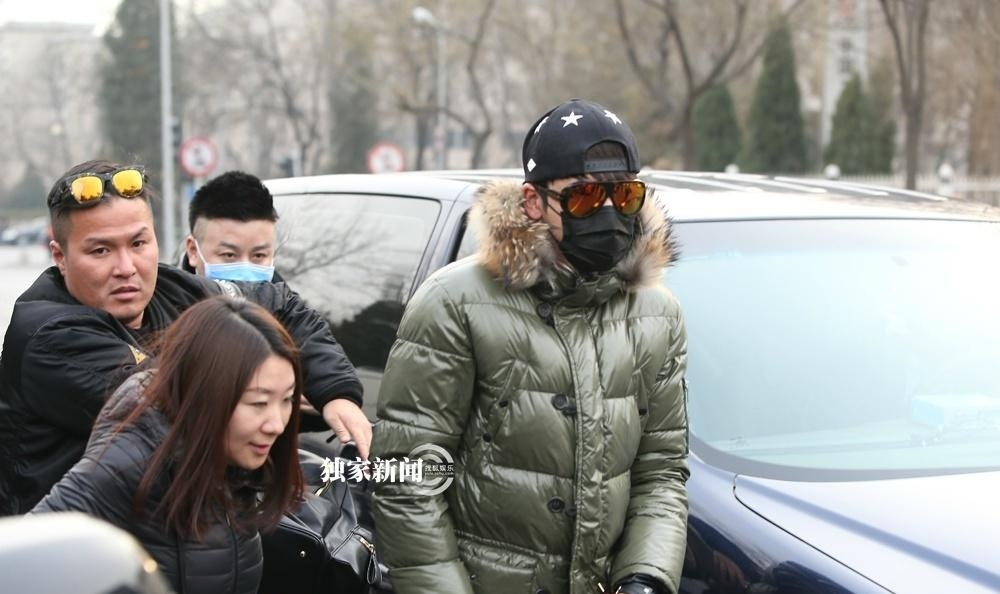Mask: (205, 238, 286, 318)
